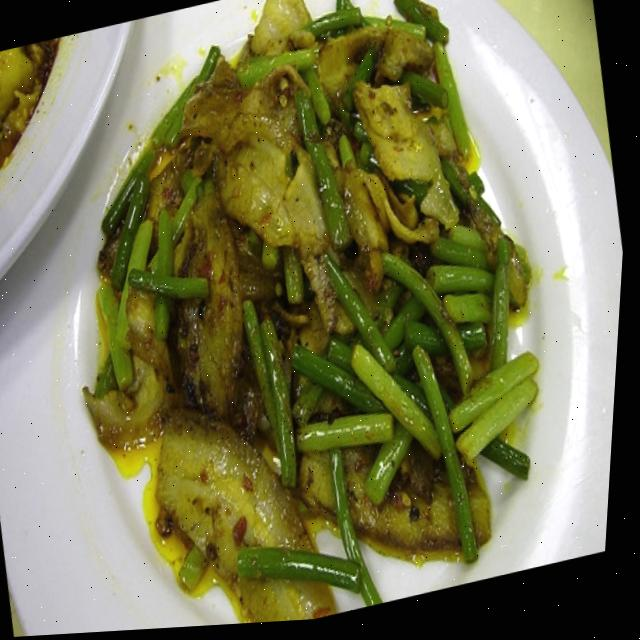猪肉菜式: (1, 0, 597, 639)
